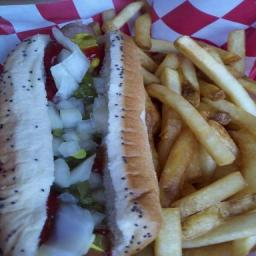hotdog: (55, 17, 99, 40)
